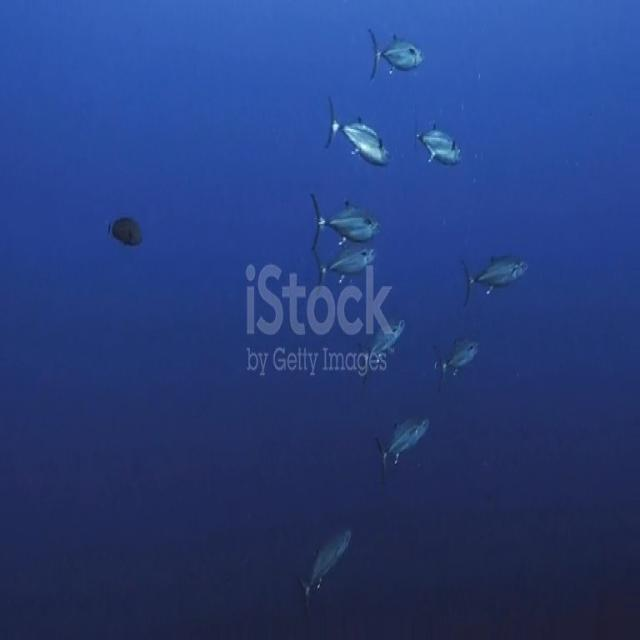fish: (324, 98, 395, 174), (372, 398, 435, 483), (297, 526, 355, 604), (460, 239, 531, 301), (314, 192, 381, 250), (370, 28, 424, 94), (308, 240, 383, 284), (354, 312, 408, 372), (431, 332, 483, 387), (414, 123, 469, 173), (106, 206, 145, 256)
